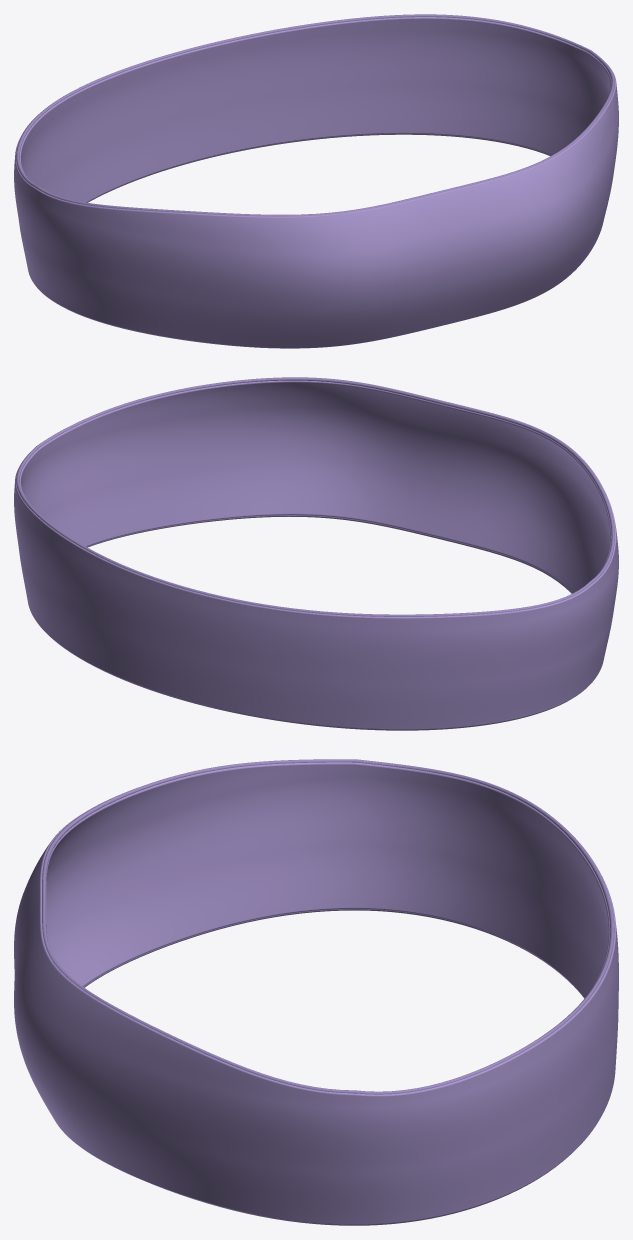
The model's file is Feminine-bandeau-top.glb.
3 views of the same model, one above another, from view 1: azimuth 30°, elevation 25°; view 2: azimuth 150°, elevation 25°; view 3: azimuth 270°, elevation 25° (orthographic). The views are drawn at different scales.
Parts seen in each view (by area): view 1: Clothing / Bandeau, Bandeau / bound edge.001 export, Bandeau / bound edge export; view 2: Clothing / Bandeau, Bandeau / bound edge.001 export, Bandeau / bound edge export; view 3: Clothing / Bandeau, Bandeau / bound edge.001 export, Bandeau / bound edge export.
Part boxes in pixels (bbox=[...]): Clothing / Bandeau: bbox=[14, 17, 618, 348]; Bandeau / bound edge.001 export: bbox=[16, 14, 614, 216]; Bandeau / bound edge export: bbox=[61, 133, 551, 348]; Clothing / Bandeau: bbox=[14, 377, 618, 729]; Bandeau / bound edge.001 export: bbox=[16, 377, 614, 616]; Bandeau / bound edge export: bbox=[64, 515, 571, 730]; Clothing / Bandeau: bbox=[14, 762, 618, 1224]; Bandeau / bound edge.001 export: bbox=[42, 759, 614, 1094]; Bandeau / bound edge export: bbox=[84, 909, 574, 1225].
Bounding box in the file's own units: 0.6463 × 0.1505 × 0.493.
